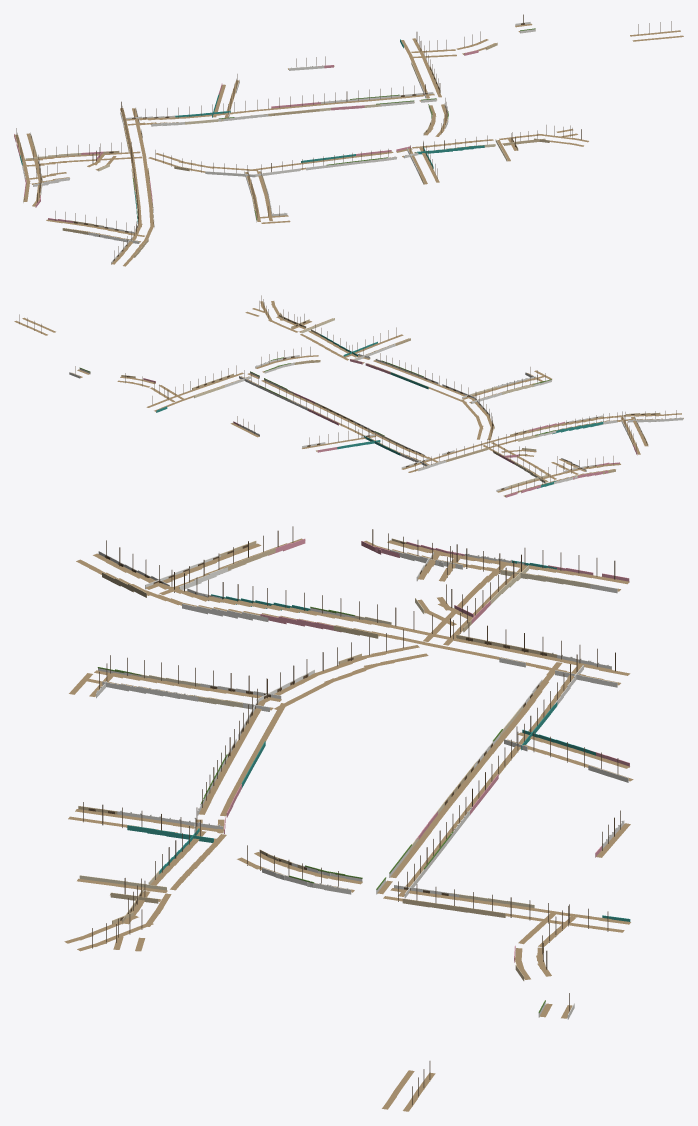
The model's file is noord_res_-14_-10.glb.
3 renders of one model, top to bottom at view 1: azimuth 30°, elevation 25°; view 2: azimuth 150°, elevation 25°; view 3: azimuth 270°, elevation 25°, orthographic. The views are drawn at different scales.
Visible parts, largest first — view 1: noord_res_-14_-10_lod0; view 2: noord_res_-14_-10_lod0; view 3: noord_res_-14_-10_lod0.
Part boxes in pixels (x1=…): noord_res_-14_-10_lod0: x1=14, y1=14, x2=683, y2=266; noord_res_-14_-10_lod0: x1=14, y1=295, x2=683, y2=497; noord_res_-14_-10_lod0: x1=64, y1=526, x2=633, y2=1111.
Size of what is drawn, in the model's own units: 522 by 17.06 by 214.
